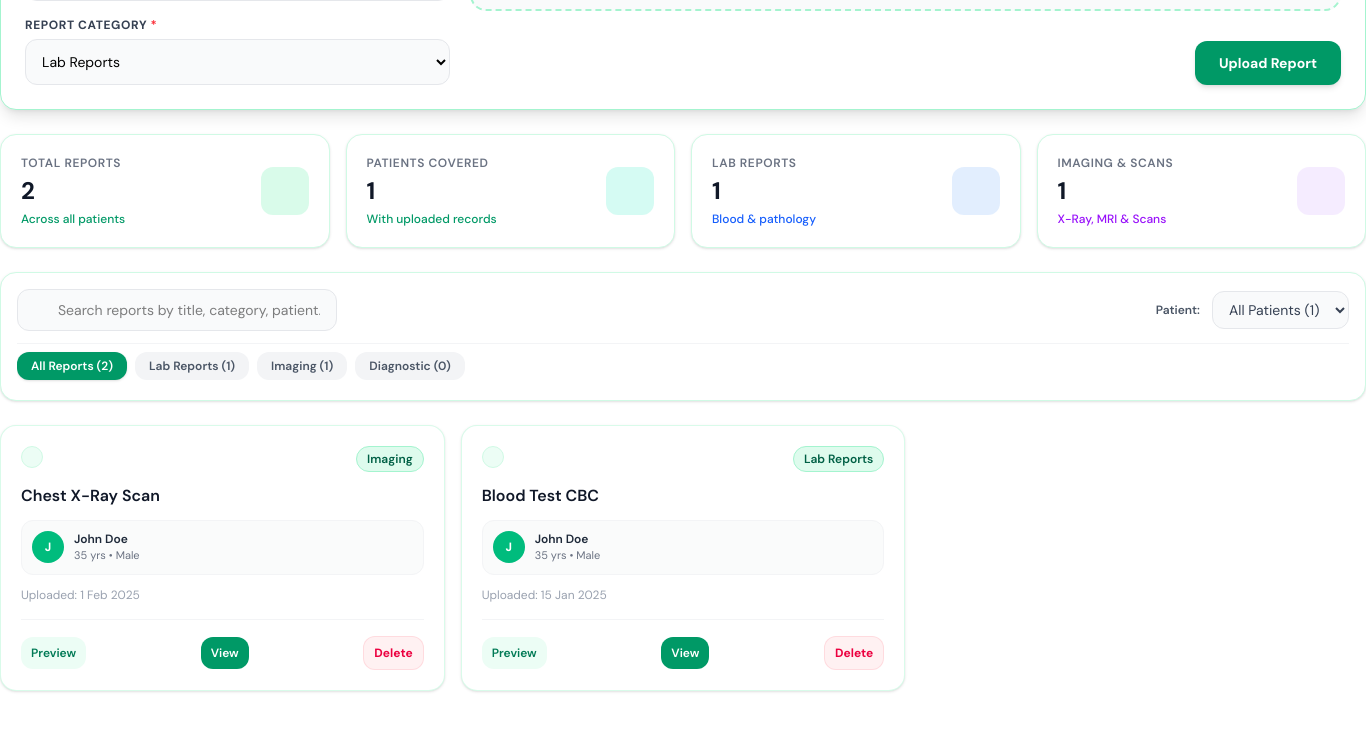
Test: ReportsTab Component › filters reports by category tabs
This screenshot has width=1366, height=739.
(page scrolled)
Check: the heading "Chest X-Ray Scan" is shown, box [21,485,160,506]
Note: Click "Imaging" tab
Click the button "Imaging (1)" at (302, 366), box [257,352,347,380]
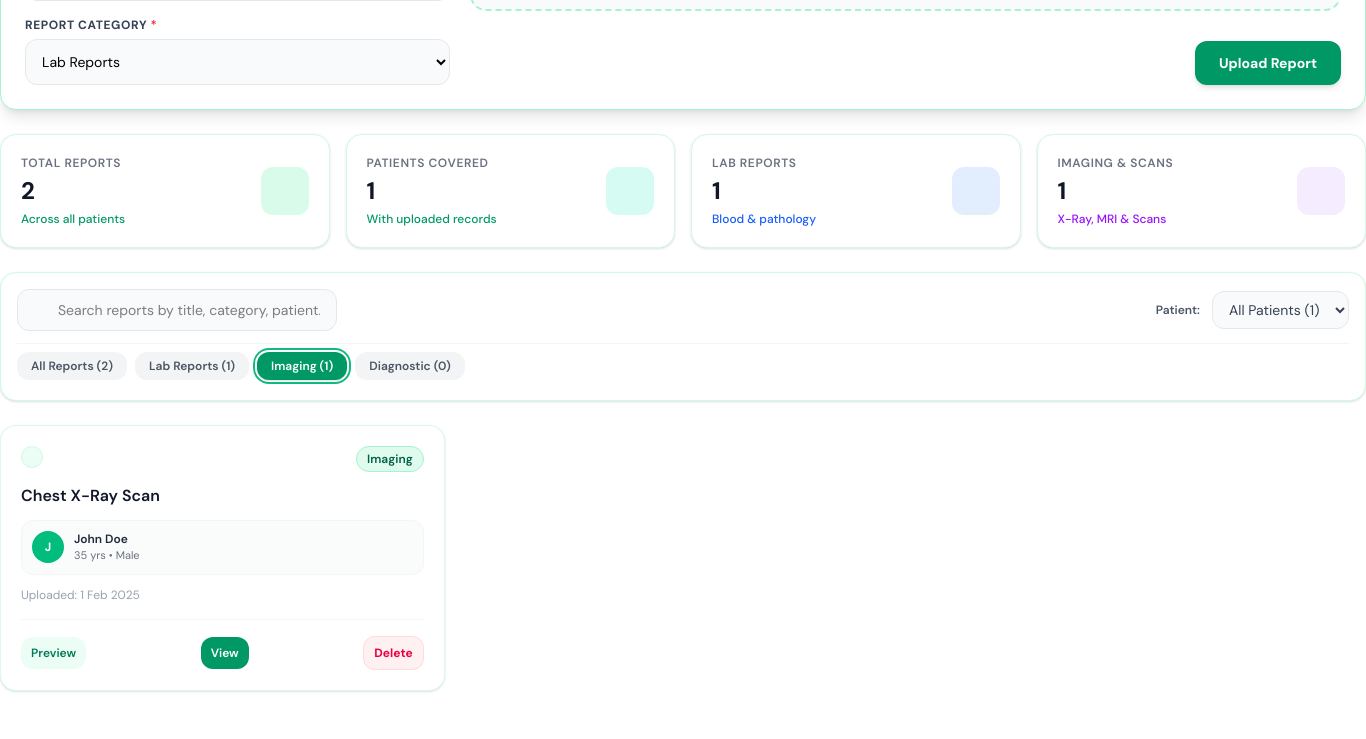
Check: the heading "Chest X-Ray Scan" is shown, box [21,485,160,506]
Check: the heading "Blood Test CBC" is gone
